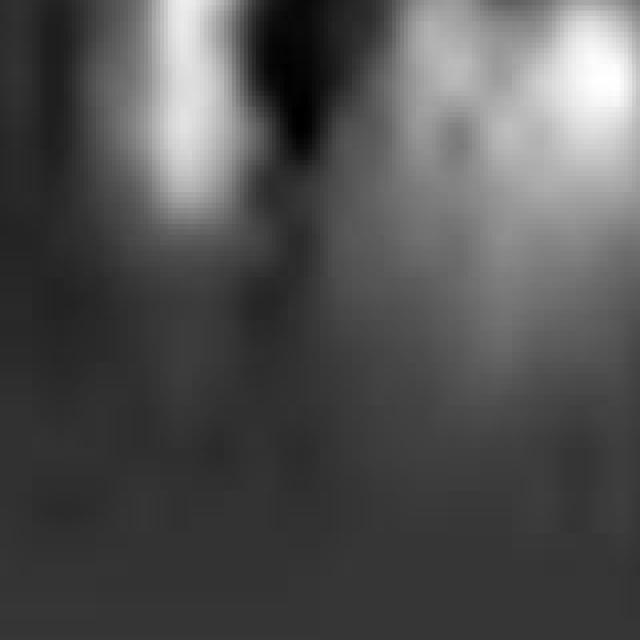person: (313, 1, 525, 561), (465, 1, 640, 486), (93, 1, 301, 385)
